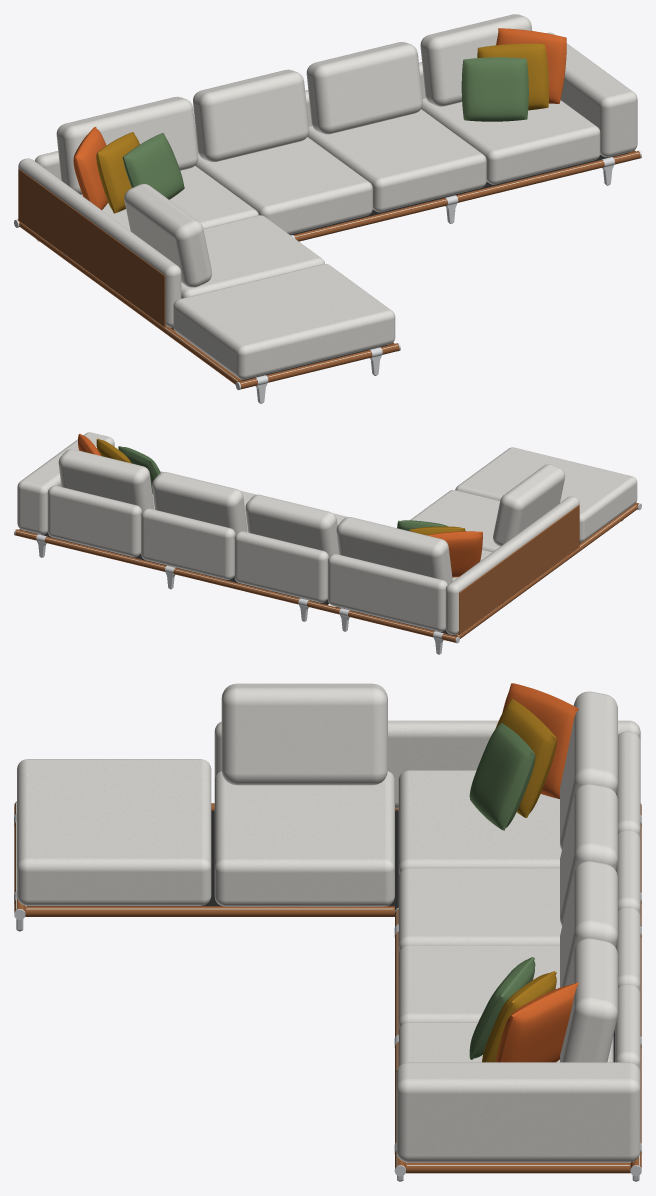
Rendered from ownLetItBe.glb.
The picture shows the model from 3 angles, top to bottom: view 1: azimuth 30°, elevation 25°; view 2: azimuth 150°, elevation 25°; view 3: azimuth 270°, elevation 25°; orthographic projection. The views are drawn at different scales.
Bounding box in the file's own units: 3.68 × 0.8025 × 2.67.
8 materials, 4 textured.
